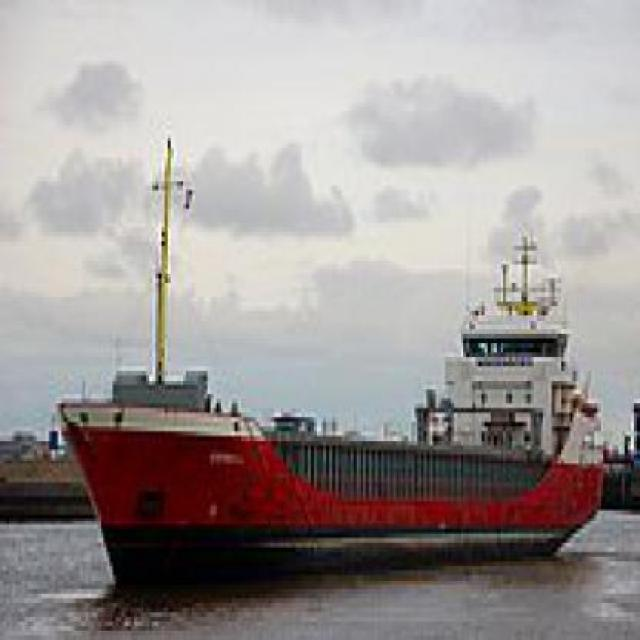container: (53, 135, 617, 604)
